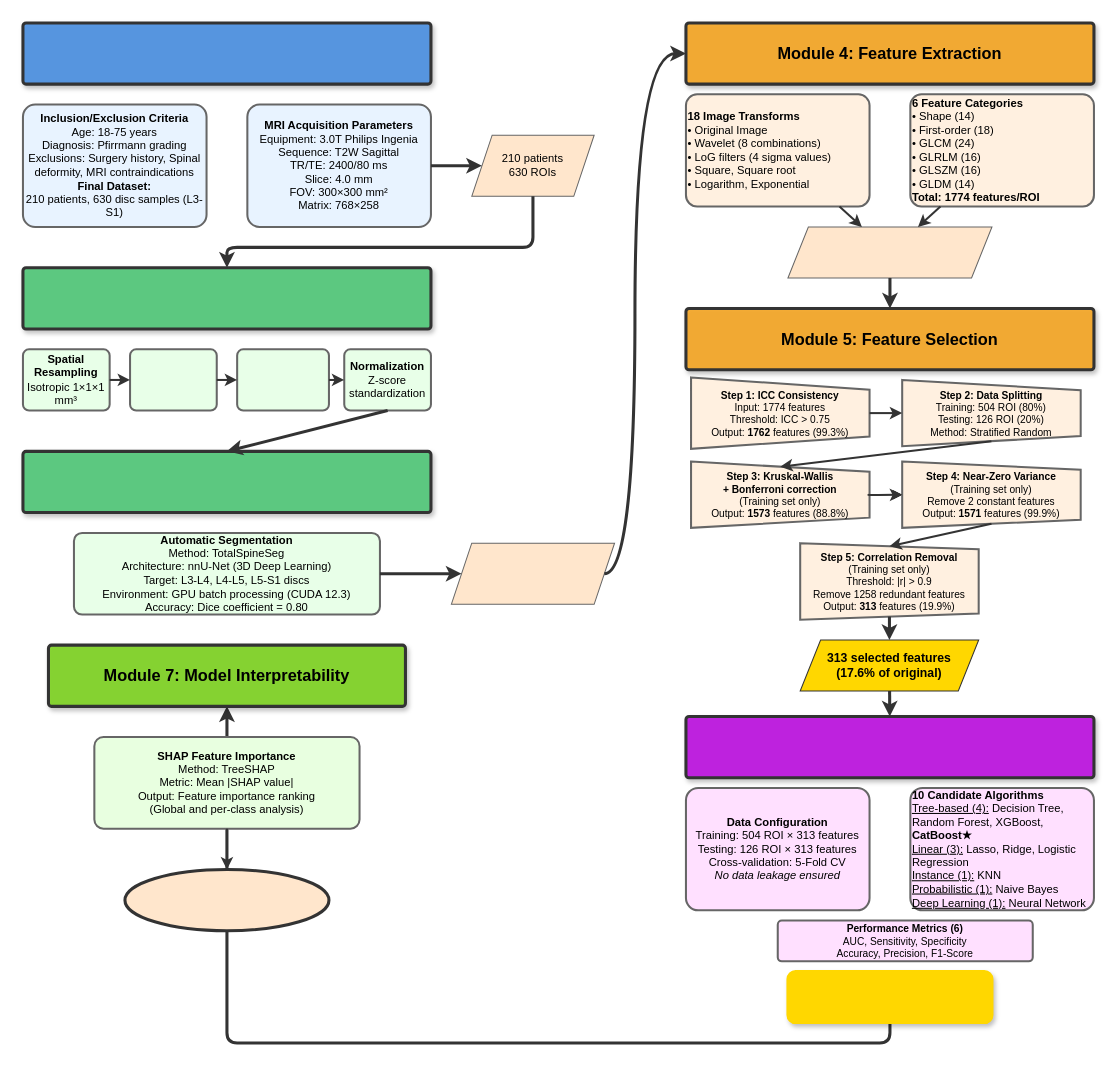
This 1119x1070 diagram has some shape labels left out. The shapes that lost their labels are listed below. From the top down, each one's centre as x and y in pixels, then its label:
At [227,54]: "Module 1: Patient Enrollment & Image Acquisition".
At [889,252]: "630 ROI × 1774 features".
At [227,299]: "Module 2: Image Preprocessing".
At [173,379]: "LPI Reorientation Standard coordinates".
At [282,379]: "N4 Bias Correction Remove intensity inhomogeneity".
At [227,483]: "Module 3: ROI Segmentation".
At [532,573]: "630 segmentation masks (NIfTI format)".
At [890,748]: "Module 6: Model Training & Validation".
At [226,900]: "Imaging Biomarker Discovery".
At [890,998]: "Optimal Model: CatBoost AUC = 0.932 ± 0.025".
